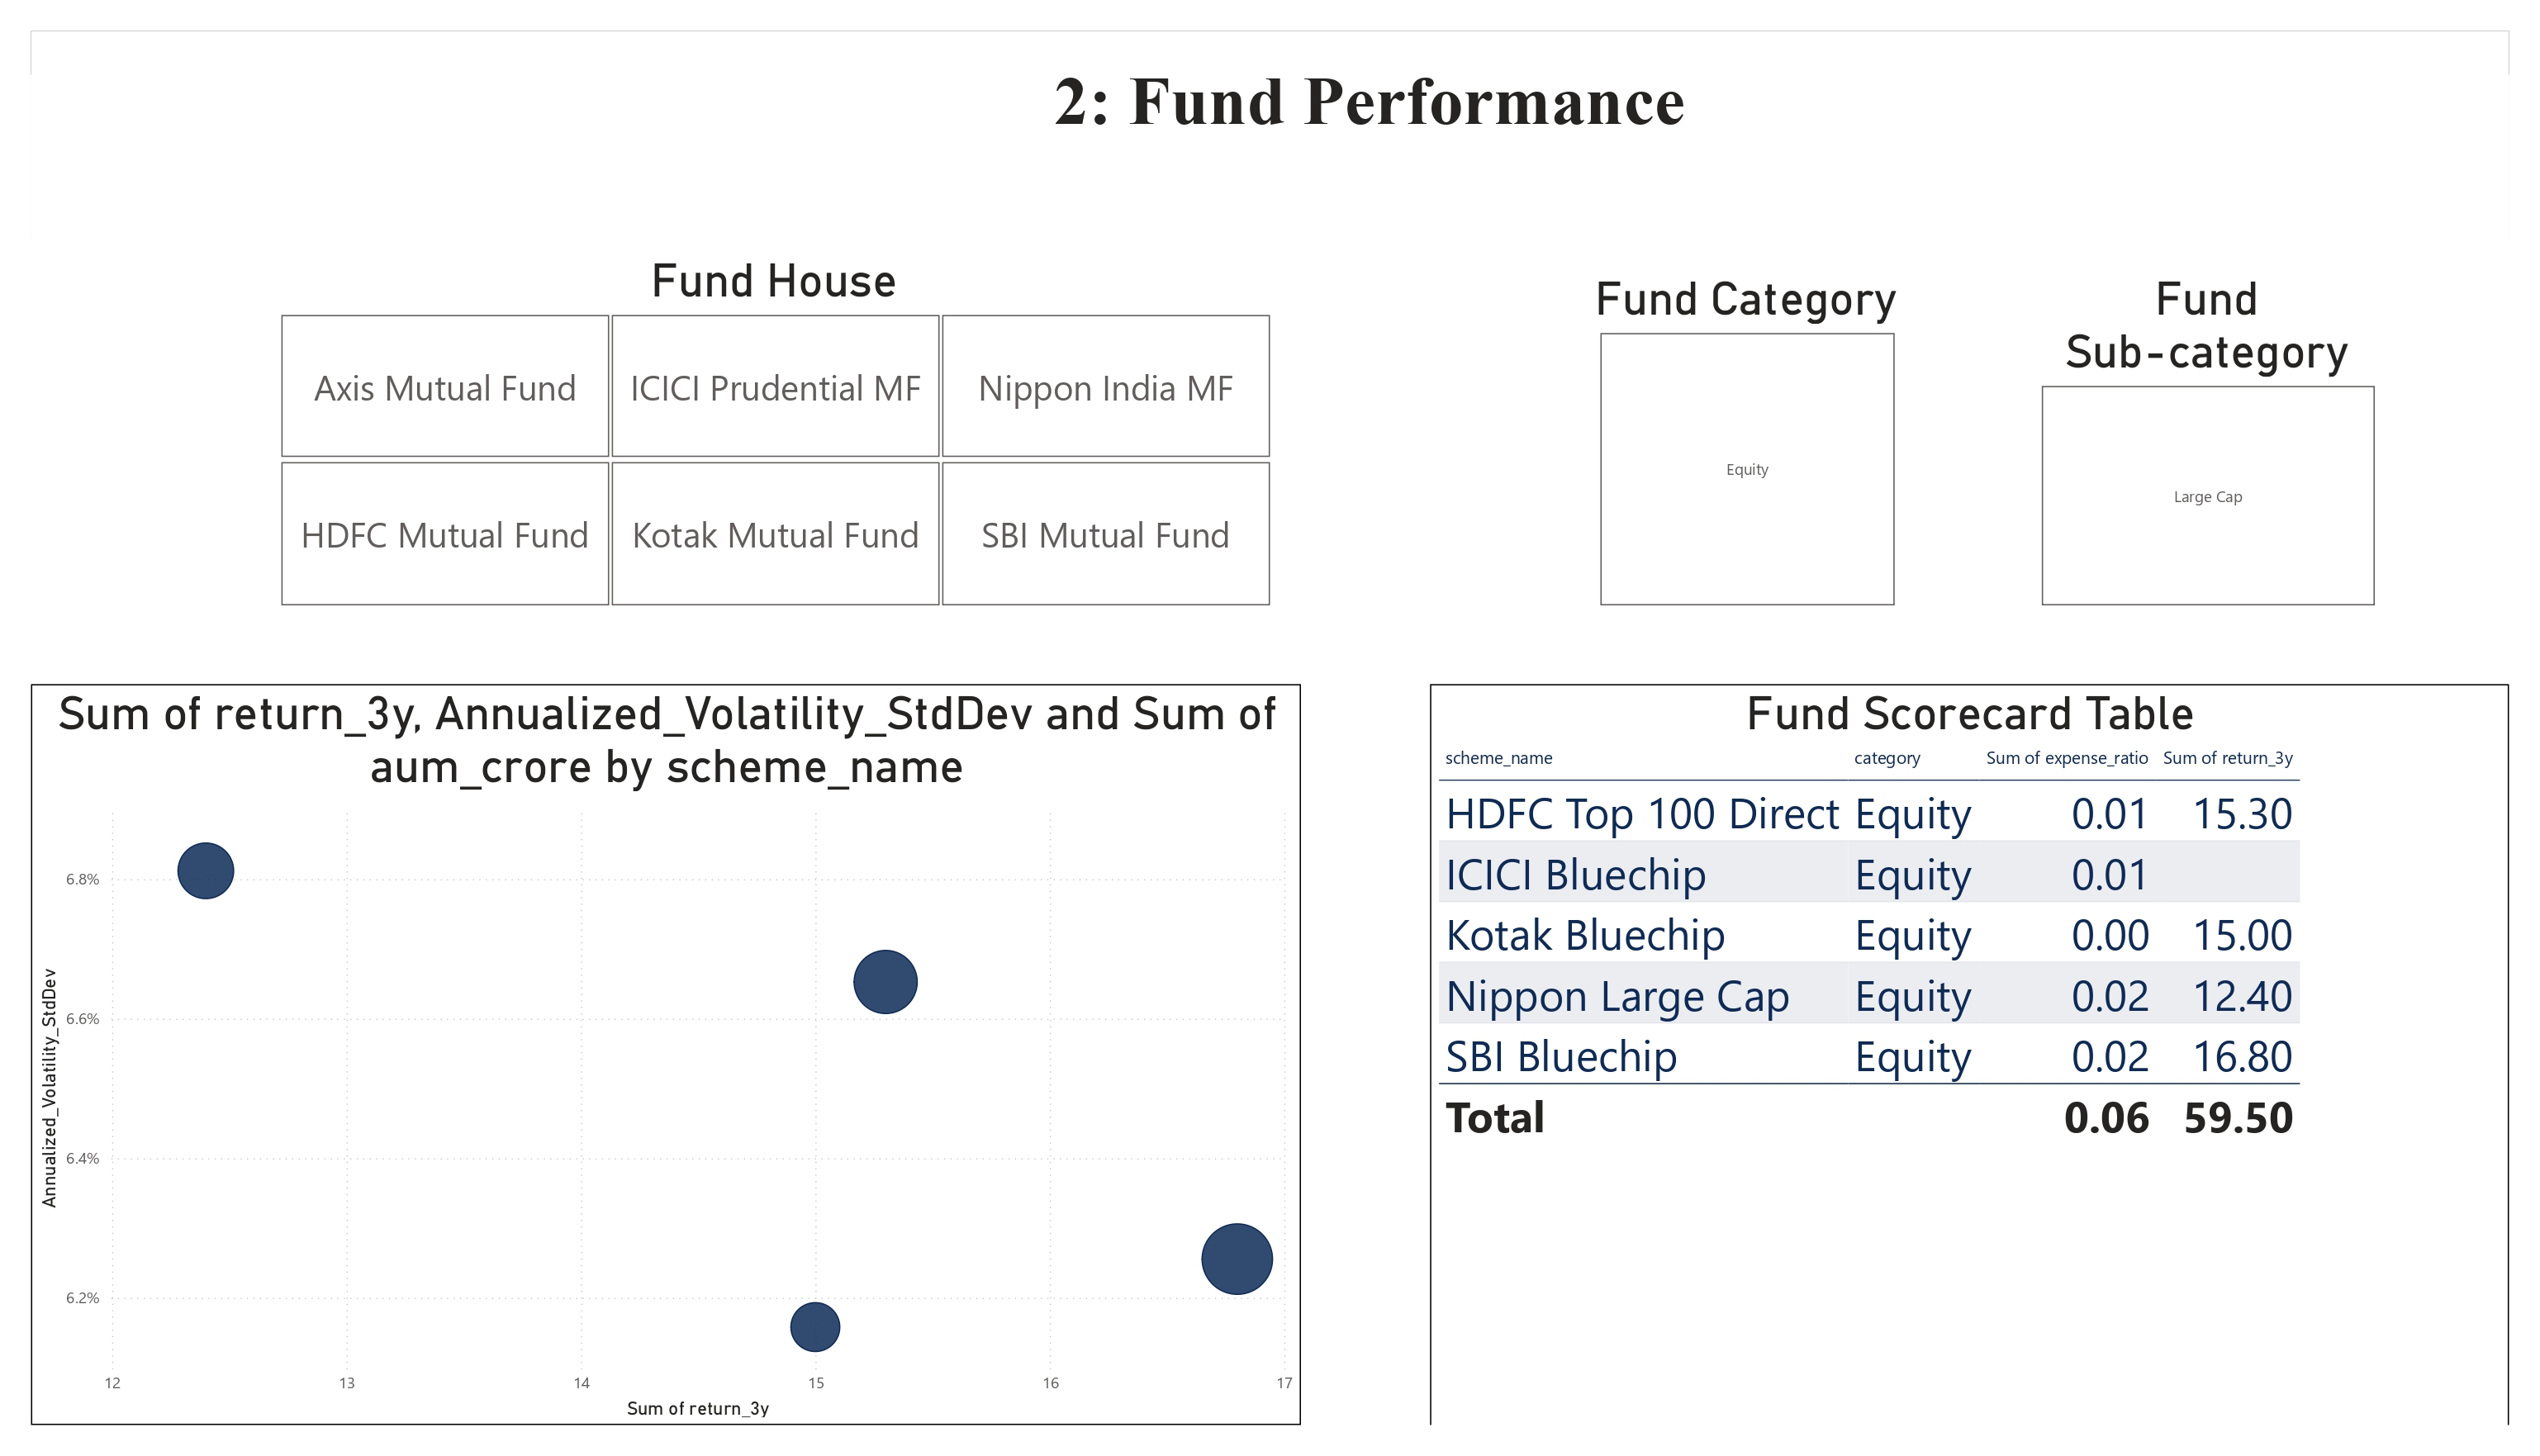

This screenshot's page, from the dashboard's own definition file:
{"tool":"powerbi","page":{"name":"Page 2: Fund Performance","canvas":[1920,1080],"ordinal":1},"visuals":[{"type":"scatterChart","fields":{"Category":["dim_fund.scheme_name"],"Size":["Sum(fact_aum.aum_crore)"],"X":["Sum(fact_performance.return_3y)"],"Y":["dim_fund.Annualized_Volatility_StdDev"]},"box":[0,506,984,574],"z":0},{"type":"tableEx","title":"Fund Scorecard Table","fields":{"Values":["dim_fund.scheme_name","dim_fund.category","Sum(fact_performance.expense_ratio)","Sum(fact_performance.return_3y)"]},"box":[1084,506,836,576],"z":1000},{"type":"slicer","title":"Fund House","fields":{"Values":["dim_fund.fund_house"]},"box":[168,172,816,280],"z":2000},{"type":"slicer","title":"Fund Category","fields":{"Values":["dim_fund.category"]},"box":[1190,186,278,266],"z":3000},{"type":"slicer","title":"Fund Sub-category","fields":{"Values":["dim_fund.sub_category"]},"box":[1532,186,308,266],"z":4000},{"type":"textbox","box":[622,18,830,82],"z":5000}]}

Visuals, with their boxes on the page's 1920x1080 design canvas (x1, y1, x2, y2). These are canvas units, not pixel positions in the 2540x1456 screenshot, which may show the page scaled, cropped or inside an application window:
scatterChart - dim_fund.scheme_name x Sum(fact_aum.aum_crore): [x1=0, y1=506, x2=984, y2=1080]
"Fund Scorecard Table" tableEx: [x1=1084, y1=506, x2=1920, y2=1082]
"Fund House" slicer: [x1=168, y1=172, x2=984, y2=452]
"Fund Category" slicer: [x1=1190, y1=186, x2=1468, y2=452]
"Fund Sub-category" slicer: [x1=1532, y1=186, x2=1840, y2=452]
textbox: [x1=622, y1=18, x2=1452, y2=100]
